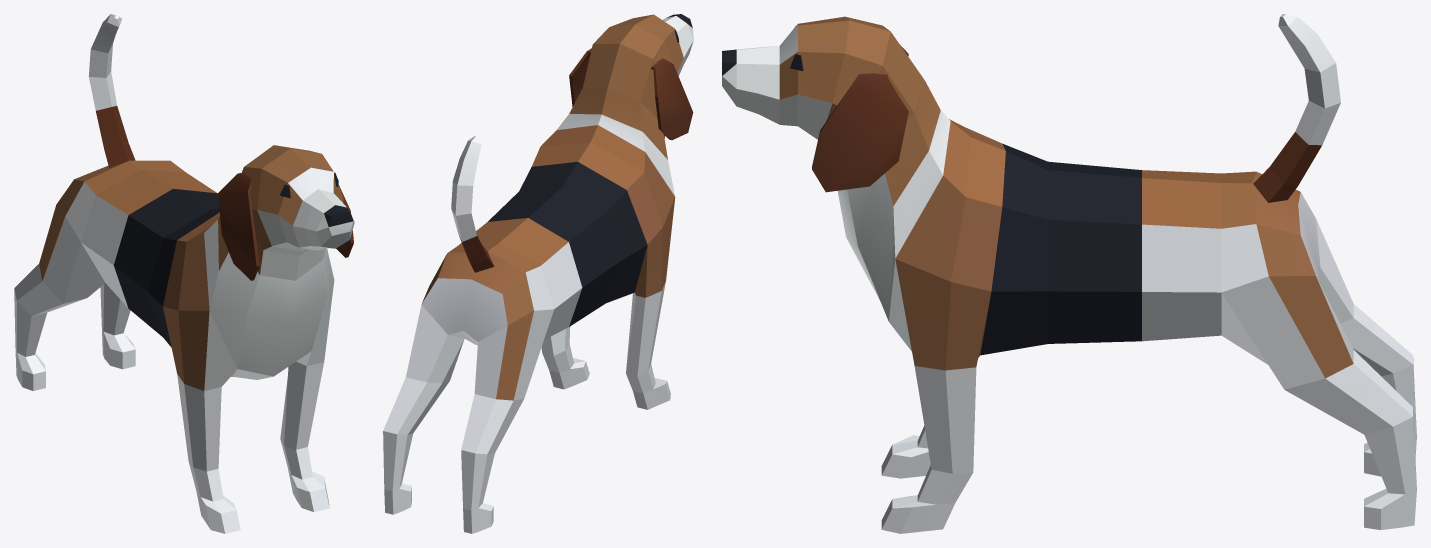
The model's file is animals-beagle-008.glb.
3 views of the same model, side by side, from view 1: azimuth 30°, elevation 25°; view 2: azimuth 150°, elevation 25°; view 3: azimuth 270°, elevation 25° (orthographic). The views are drawn at different scales.
Parts seen in each view (by area): view 1: Geo_Beagle; view 2: Geo_Beagle; view 3: Geo_Beagle.
Boxes of the visible parts, bbox=[...] form: Geo_Beagle: bbox=[14, 14, 354, 533]; Geo_Beagle: bbox=[383, 14, 693, 533]; Geo_Beagle: bbox=[722, 14, 1416, 533].
Bounding box in the file's own units: 30.18 × 78.26 × 102.
1 material, 1 textured.
